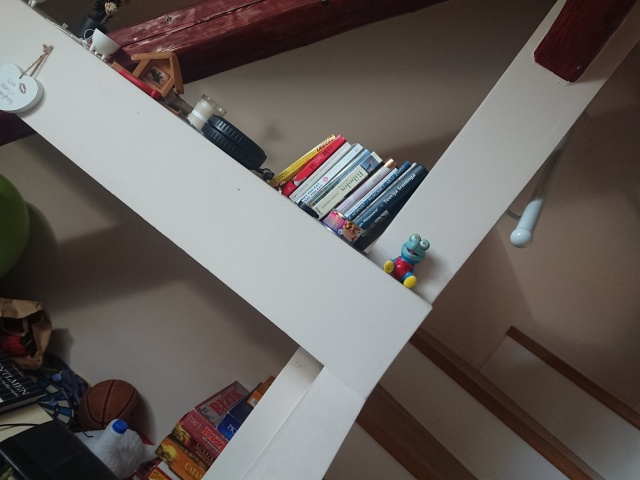Giana Tuna Salad Mexico 185g: (320, 208, 366, 250)
